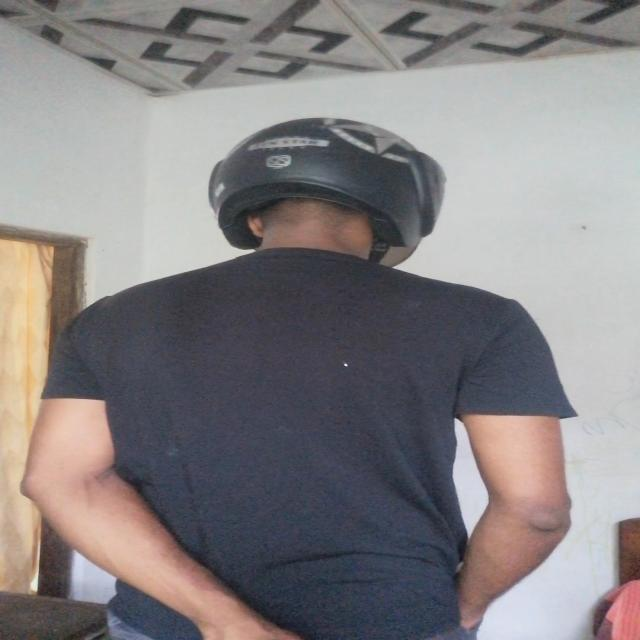Helmet_Wearer: (148, 108, 462, 268)
Person: (40, 117, 580, 640)
